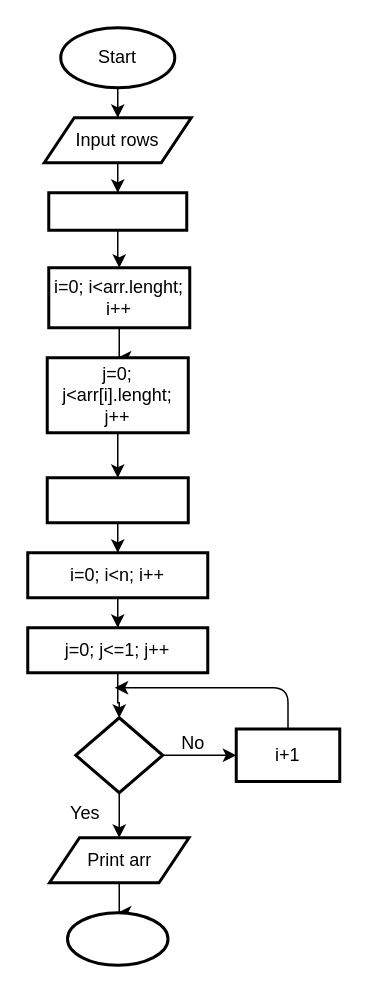
This 366x992 diagram has some shape labels left out. Each missing label, with the box of its shape:
arr, tmp: (45, 476, 189, 524)
End: (65, 910, 169, 966)
j==1: (74, 716, 164, 794)
rows, arr: (46, 190, 188, 231)
